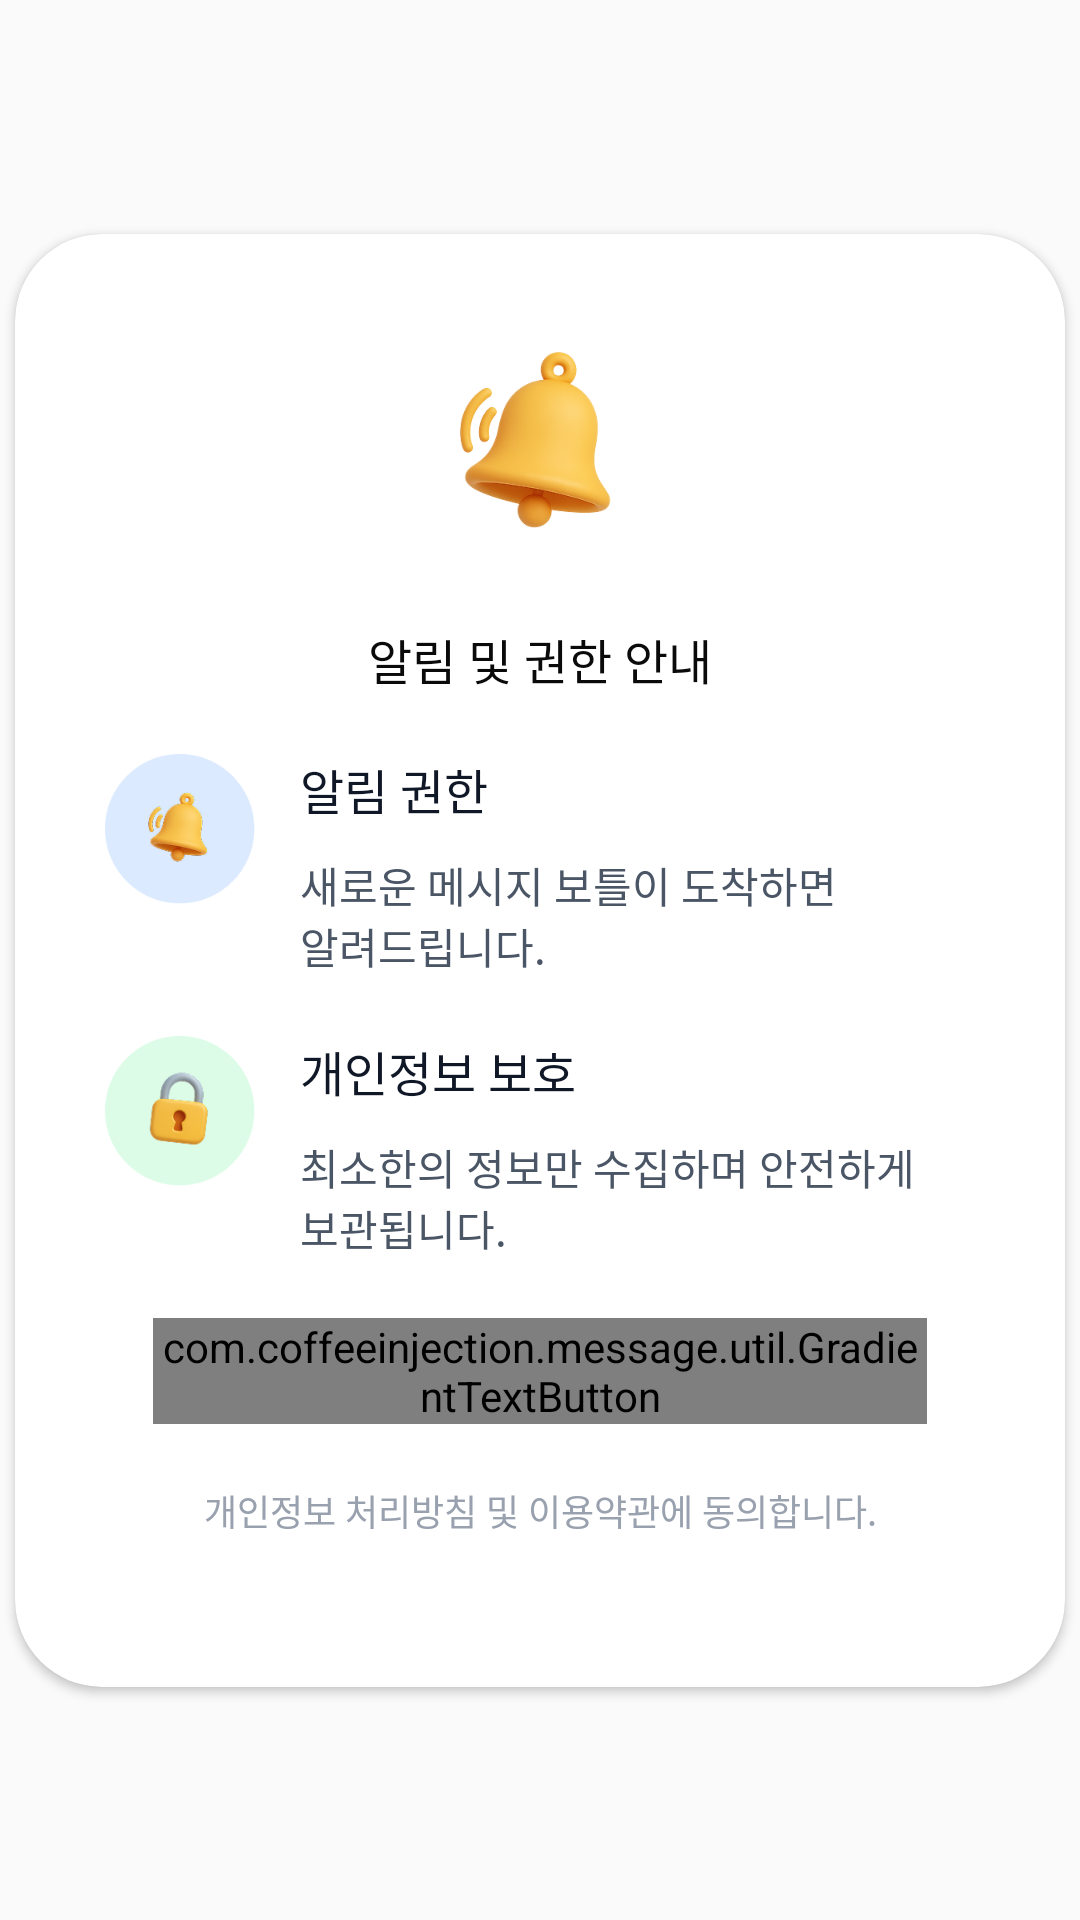

Named icons in this screenshot (1080 x 1920) and their bounding boxes, (x1, y1, x2, y2):
bell: (460, 352, 611, 528)
bell mini: (105, 754, 254, 903)
lock mini: (105, 1036, 254, 1185)
